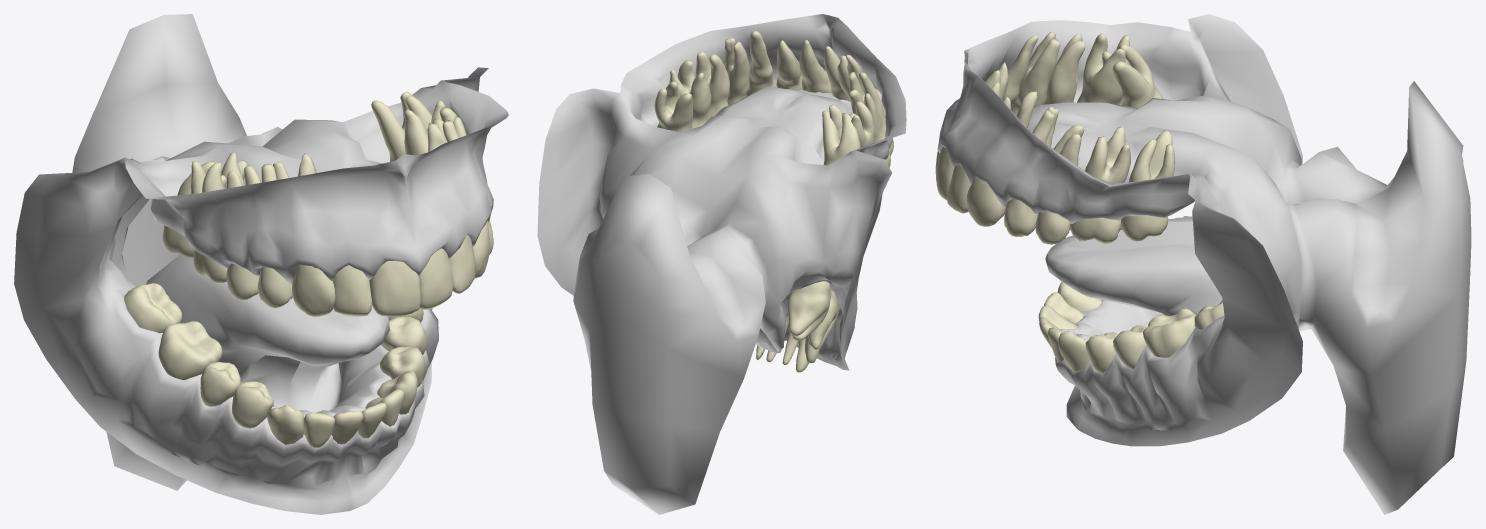
File: mouth_model.fbx
3 renders of one model, left to right at view 1: azimuth 30°, elevation 25°; view 2: azimuth 150°, elevation 25°; view 3: azimuth 270°, elevation 25°, orthographic. The views are drawn at different scales.
Visible parts, largest first — view 1: mouth, teeth.011, teeth.005, teeth.027, teeth.021, teeth.010, teeth.020, teeth.015, teeth.026, teeth.013, teeth.006, teeth.022 (+13 smaller); view 2: mouth, teeth.021, teeth.020, teeth.009, teeth.016, teeth.018, teeth.012, teeth.019, teeth.026, teeth.010, teeth.007, teeth.006 (+3 smaller); view 3: mouth, teeth.009, teeth.020, teeth.010, teeth.016, teeth.002, teeth.006, teeth.019, teeth.017, teeth.018, teeth.012, teeth.003 (+6 smaller).
Boxes of the visible parts, x1=… form: mouth: x1=14, y1=14, x2=508, y2=514; teeth.011: x1=158, y1=321, x2=222, y2=379; teeth.005: x1=369, y1=261, x2=420, y2=316; teeth.027: x1=292, y1=153, x2=335, y2=317; teeth.021: x1=124, y1=283, x2=181, y2=333; teeth.010: x1=191, y1=152, x2=243, y2=283; teeth.020: x1=371, y1=91, x2=432, y2=161; teeth.015: x1=333, y1=265, x2=371, y2=316; teeth.026: x1=419, y1=248, x2=453, y2=309; teeth.013: x1=232, y1=381, x2=273, y2=428; teeth.006: x1=257, y1=162, x2=292, y2=307; teeth.022: x1=200, y1=362, x2=240, y2=406; mouth: x1=537, y1=14, x2=906, y2=514; teeth.021: x1=787, y1=281, x2=831, y2=340; teeth.020: x1=654, y1=81, x2=692, y2=132; teeth.009: x1=669, y1=60, x2=711, y2=128; teeth.016: x1=822, y1=110, x2=860, y2=165; teeth.018: x1=695, y1=52, x2=729, y2=116; teeth.012: x1=724, y1=38, x2=749, y2=105; teeth.019: x1=746, y1=31, x2=777, y2=95; teeth.026: x1=799, y1=40, x2=831, y2=93; teeth.010: x1=829, y1=101, x2=874, y2=147; teeth.007: x1=776, y1=40, x2=802, y2=89; teeth.006: x1=849, y1=72, x2=893, y2=155; mouth: x1=937, y1=14, x2=1471, y2=514; teeth.009: x1=1070, y1=126, x2=1130, y2=243; teeth.020: x1=1121, y1=130, x2=1174, y2=241; teeth.010: x1=1077, y1=33, x2=1129, y2=104; teeth.016: x1=1102, y1=44, x2=1163, y2=108; teeth.002: x1=1143, y1=308, x2=1196, y2=357; teeth.006: x1=1011, y1=32, x2=1060, y2=115; teeth.019: x1=966, y1=91, x2=1037, y2=226; teeth.017: x1=1044, y1=34, x2=1085, y2=104; teeth.018: x1=1035, y1=125, x2=1084, y2=244; teeth.012: x1=1004, y1=106, x2=1058, y2=236; teeth.003: x1=1113, y1=325, x2=1146, y2=368.
Size of the model in its own units: 10.47 by 11.46 by 12.06.
